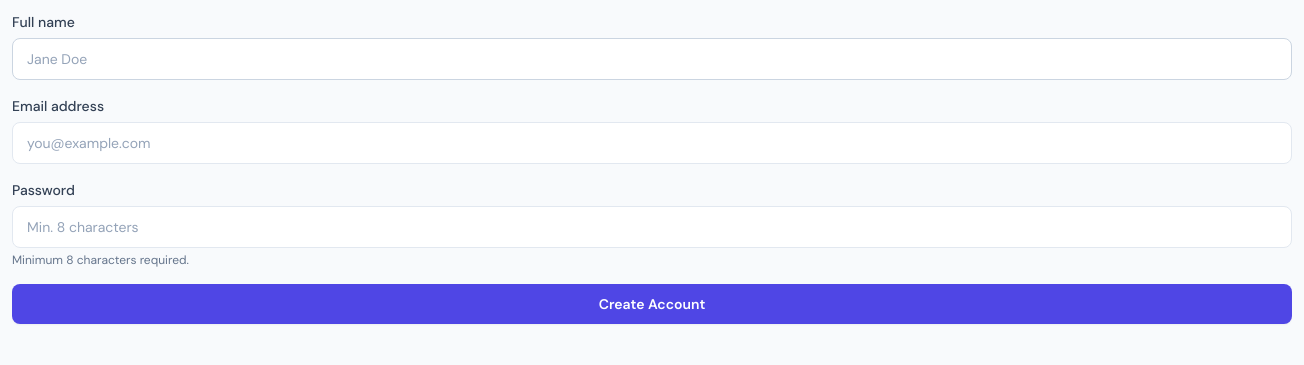
Test case: SignUpForm › shows validation error when name is too short
Type "A" into the field labelled "Full name".
click(652, 59); type("A")  # box [12,38,1292,80]
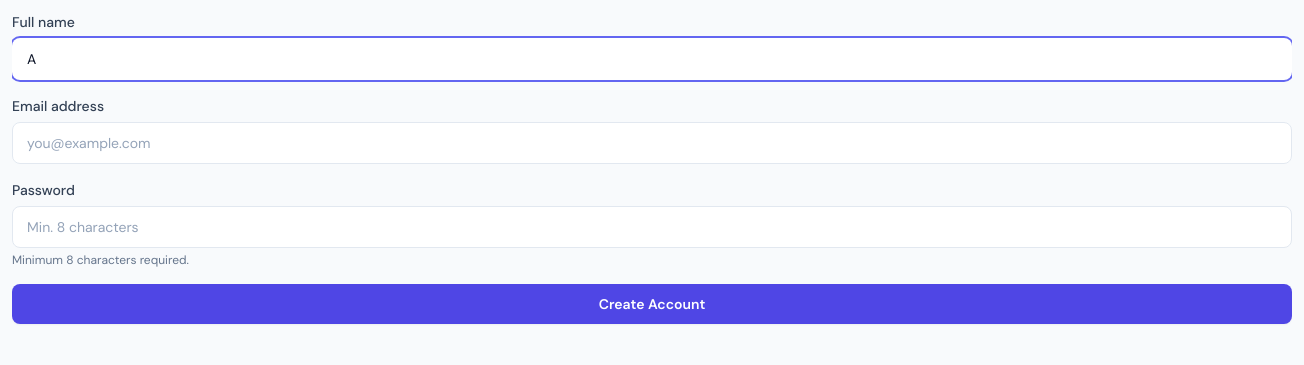
Type "test@example.com" into the field labelled "Email address".
click(652, 143); type("test@example.com")  # box [12,122,1292,164]
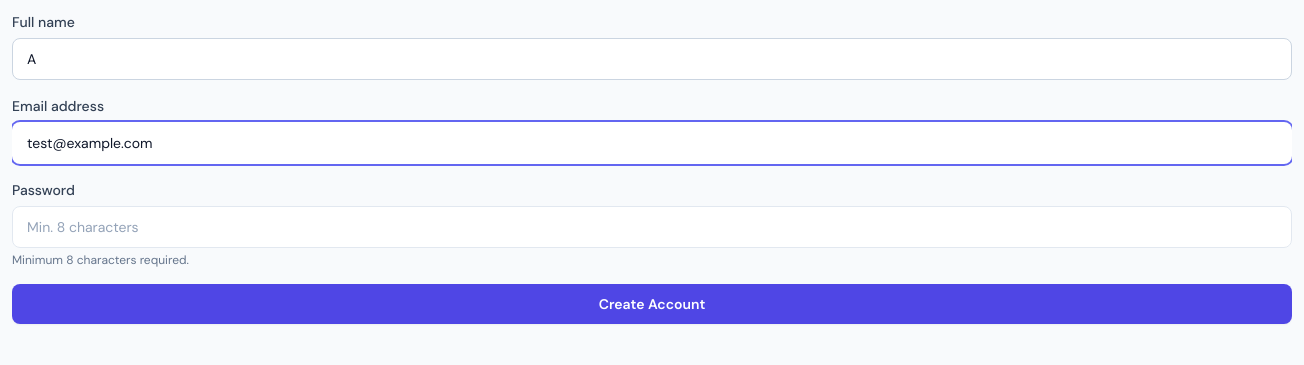
Type "password123" into the password field labelled "Password".
click(652, 227); type("password123")  # box [12,206,1292,248]
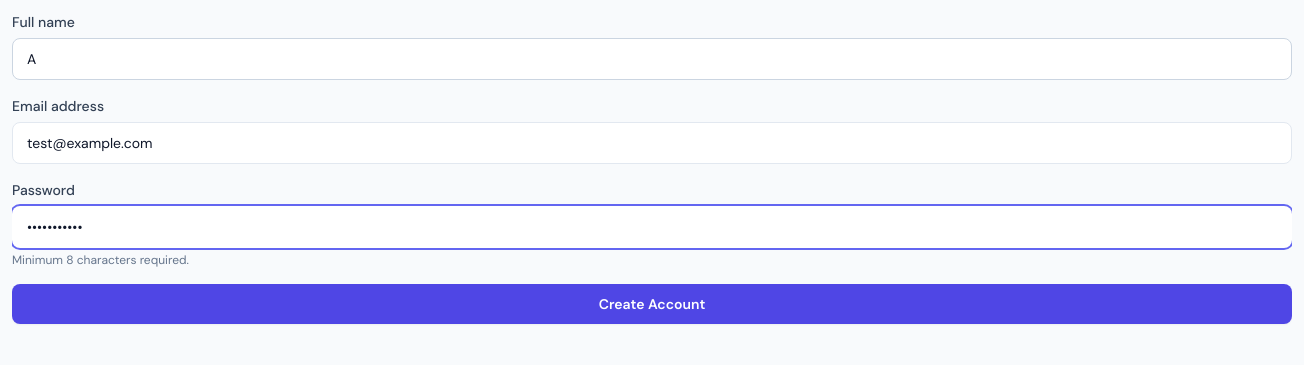
Click the button "Create Account".
click(652, 304)  # box [12,284,1292,324]
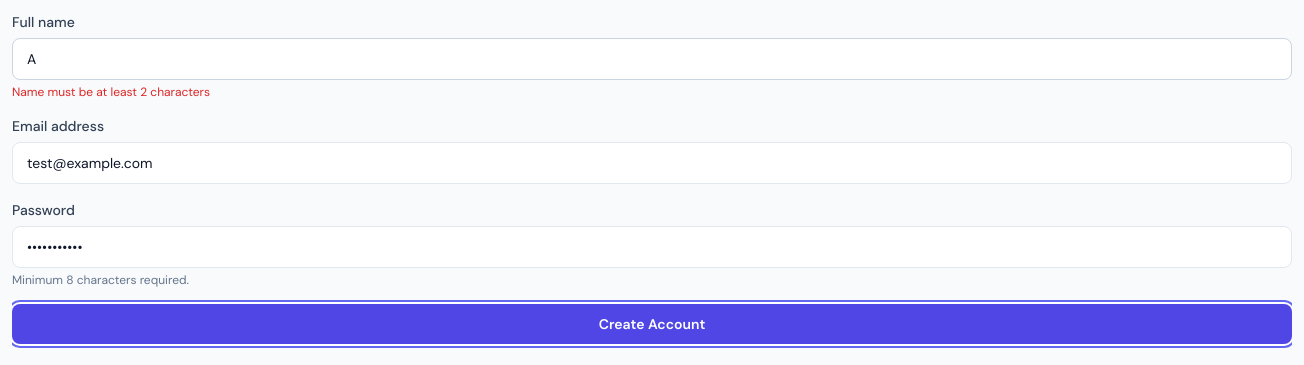
Expected: the text "Name must be at least 2 characters" is shown, [12,84,210,100]
